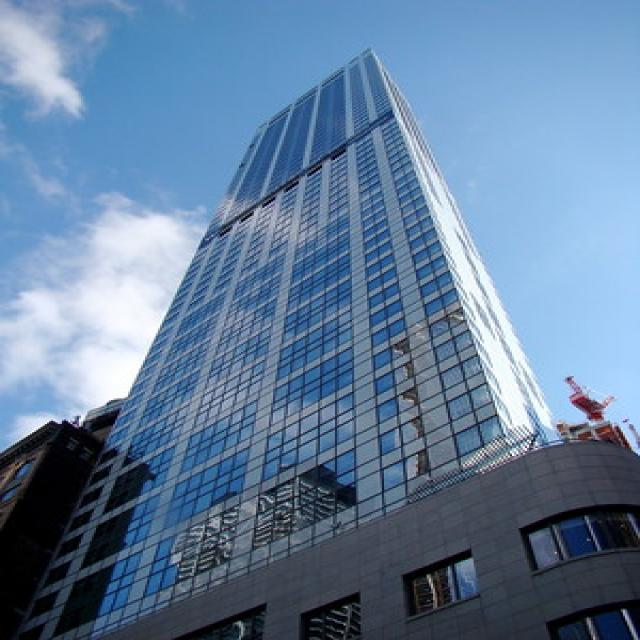Normal_building: (19, 44, 580, 638)
